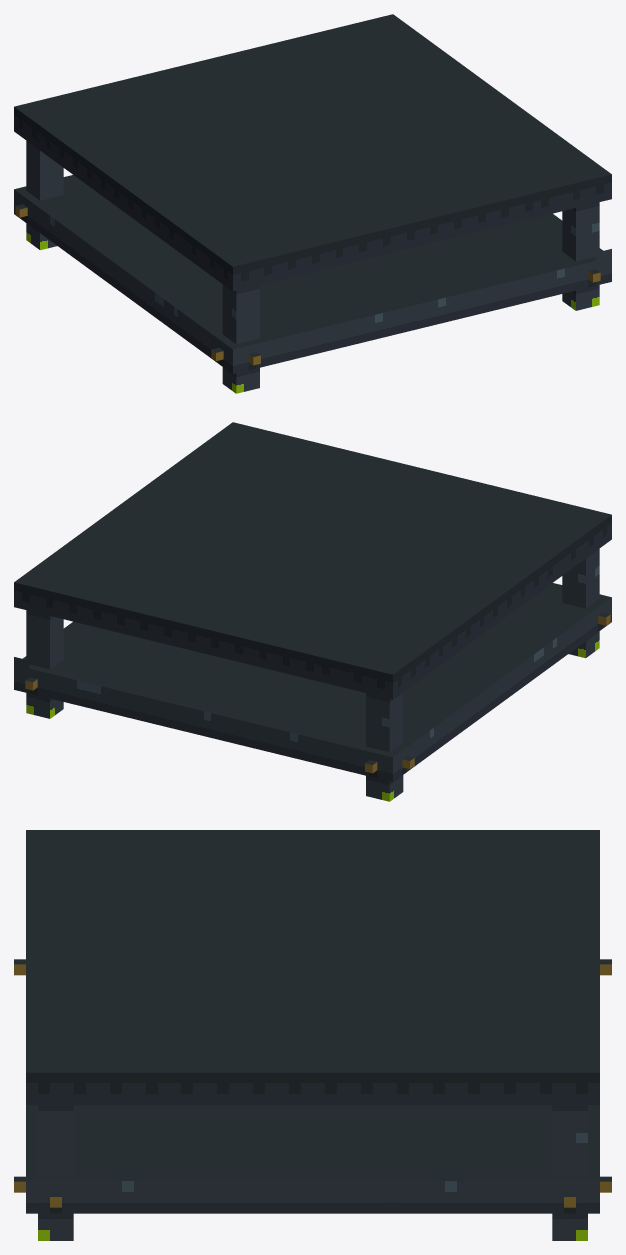
The model's file is water_tower_legsao.fezao.glb.
3 views of the same model, one above another, from view 1: azimuth 30°, elevation 25°; view 2: azimuth 150°, elevation 25°; view 3: azimuth 270°, elevation 25° (orthographic). The views are drawn at different scales.
Visible parts, largest first — view 1: WATER_TOWER_LEGSAO; view 2: WATER_TOWER_LEGSAO; view 3: WATER_TOWER_LEGSAO.
Boxes of the visible parts, box(x1,y1,x2,y2) form: WATER_TOWER_LEGSAO: box(14, 14, 611, 393); WATER_TOWER_LEGSAO: box(14, 422, 611, 801); WATER_TOWER_LEGSAO: box(14, 830, 611, 1240).
Size of the model in its own units: 3.12 by 1 by 3.12.
Materials: 1 (1 with a texture image).
